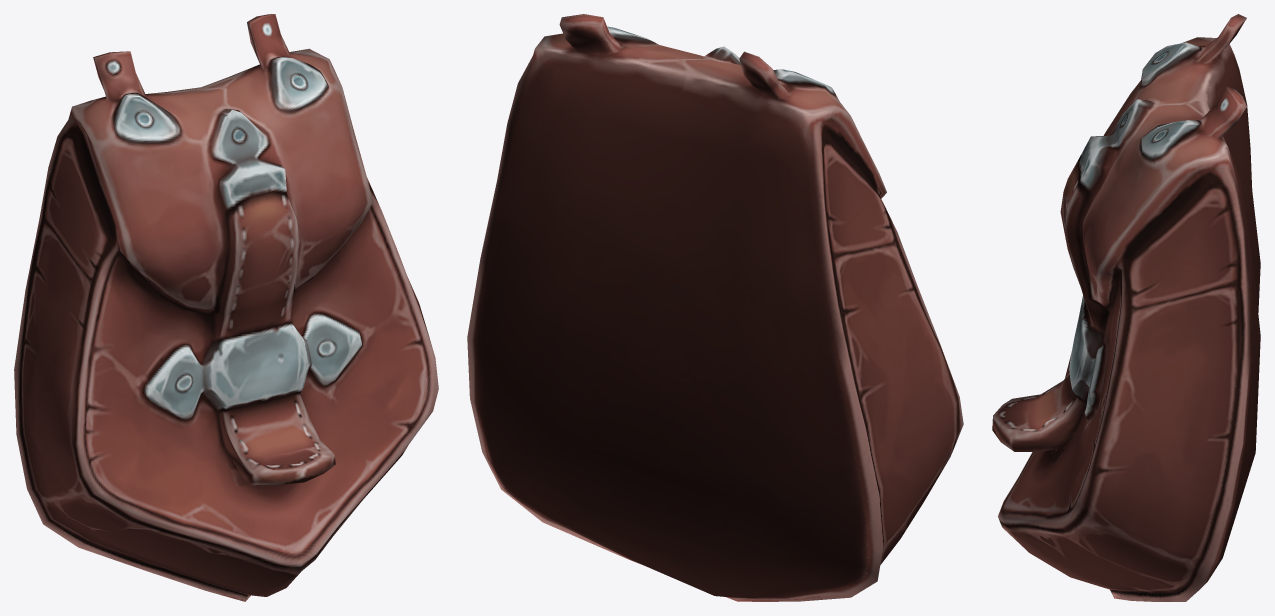
The model's file is Bag.FBX.
The picture shows the model from 3 angles, left to right: view 1: azimuth 30°, elevation 25°; view 2: azimuth 150°, elevation 25°; view 3: azimuth 270°, elevation 25°; orthographic projection. The views are drawn at different scales.
Visible parts, largest first — view 1: Bag; view 2: Bag; view 3: Bag.
Boxes of the visible parts, x1,y1,x2,y2 form: Bag: [14, 14, 438, 601]; Bag: [467, 14, 963, 601]; Bag: [992, 14, 1260, 601].
Bounding box in the file's own units: 21.61 × 13.5 × 30.12.
